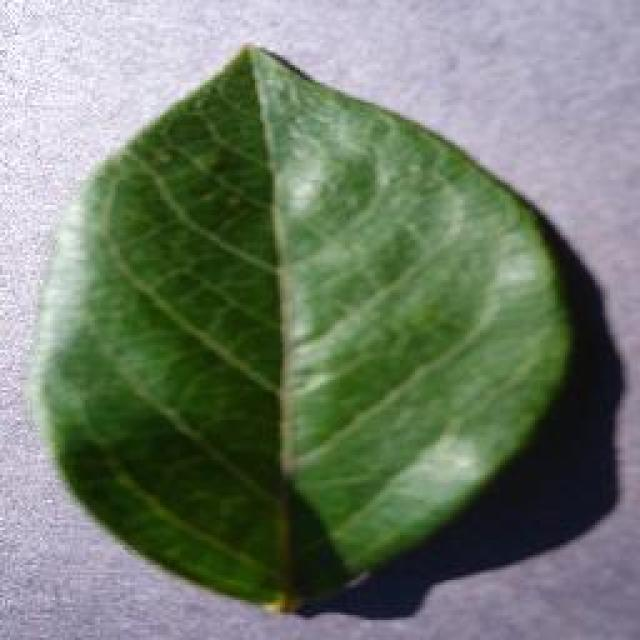Blu_healthy: (61, 138, 516, 542)
